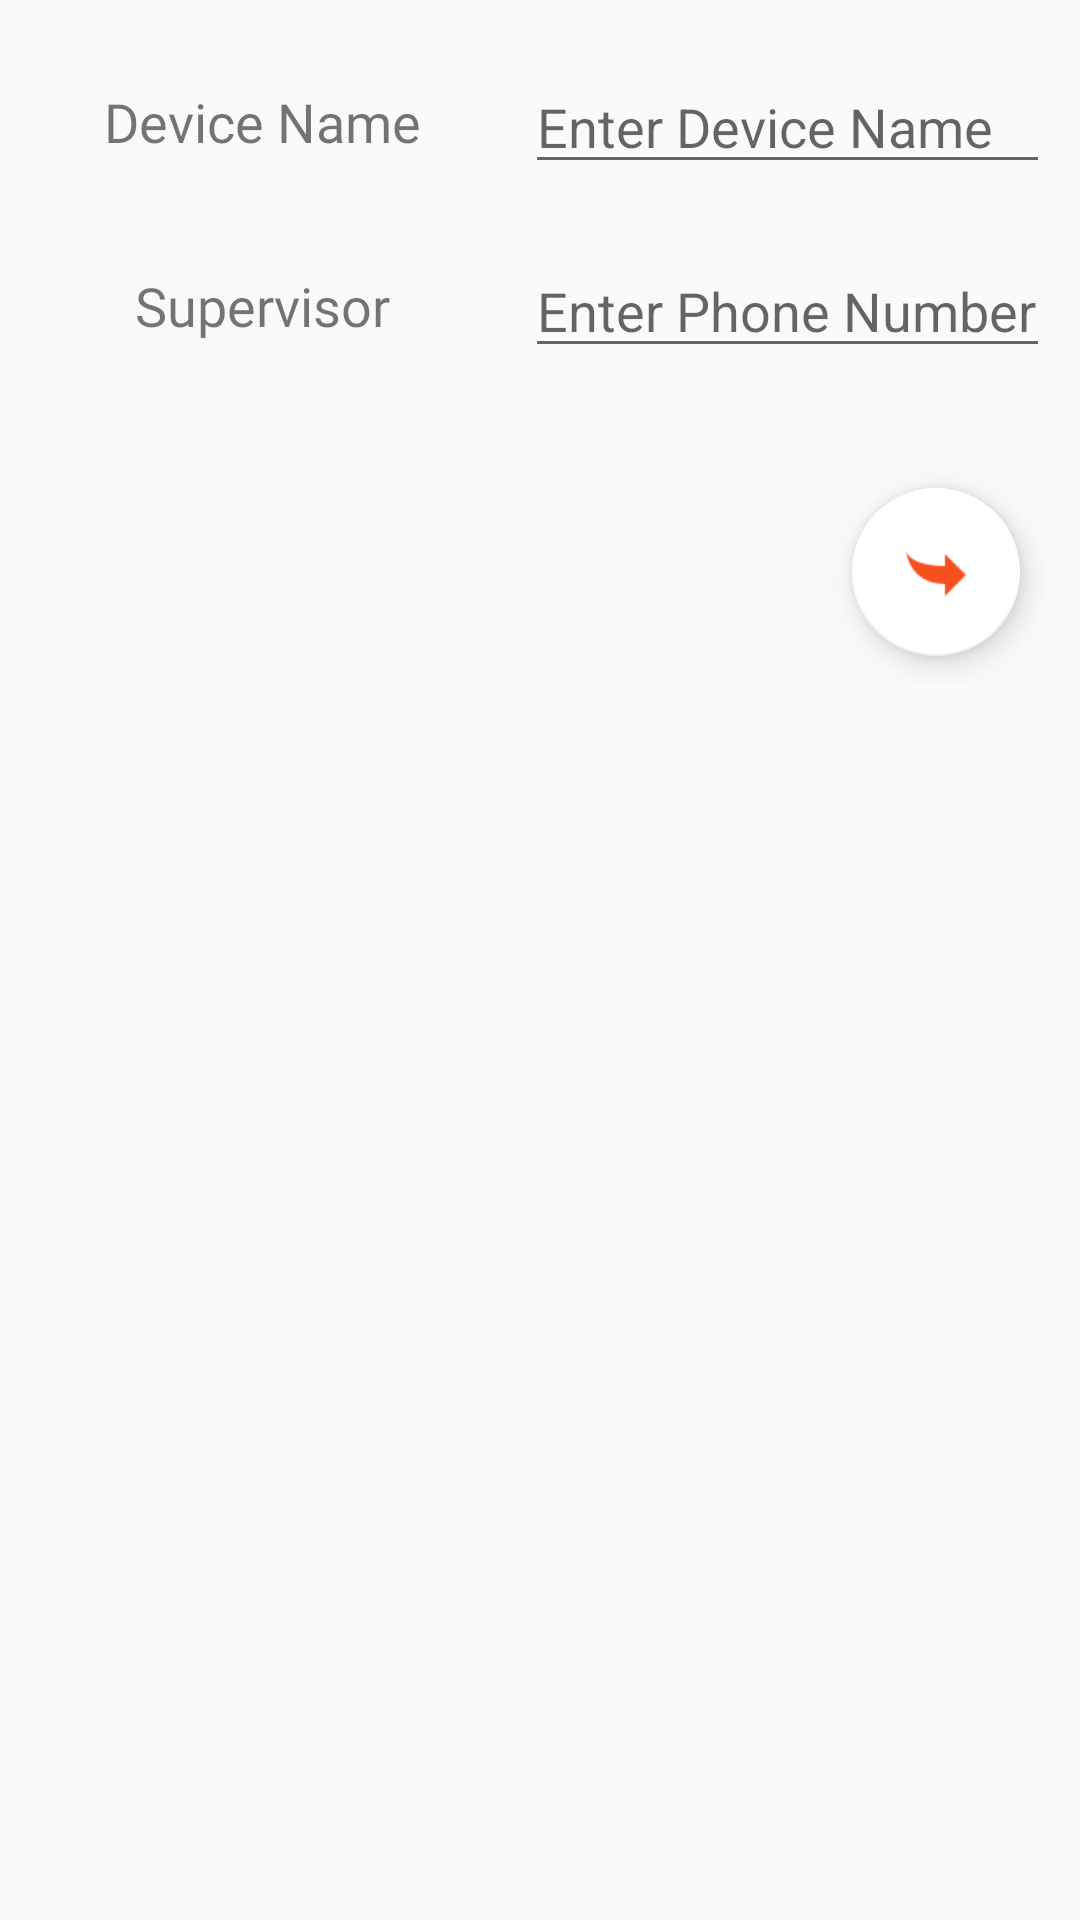

Icons on this 1080 × 1920 Android screen, each with the point to tap as (x=x, y=y):
enterq: (x=943, y=592)
